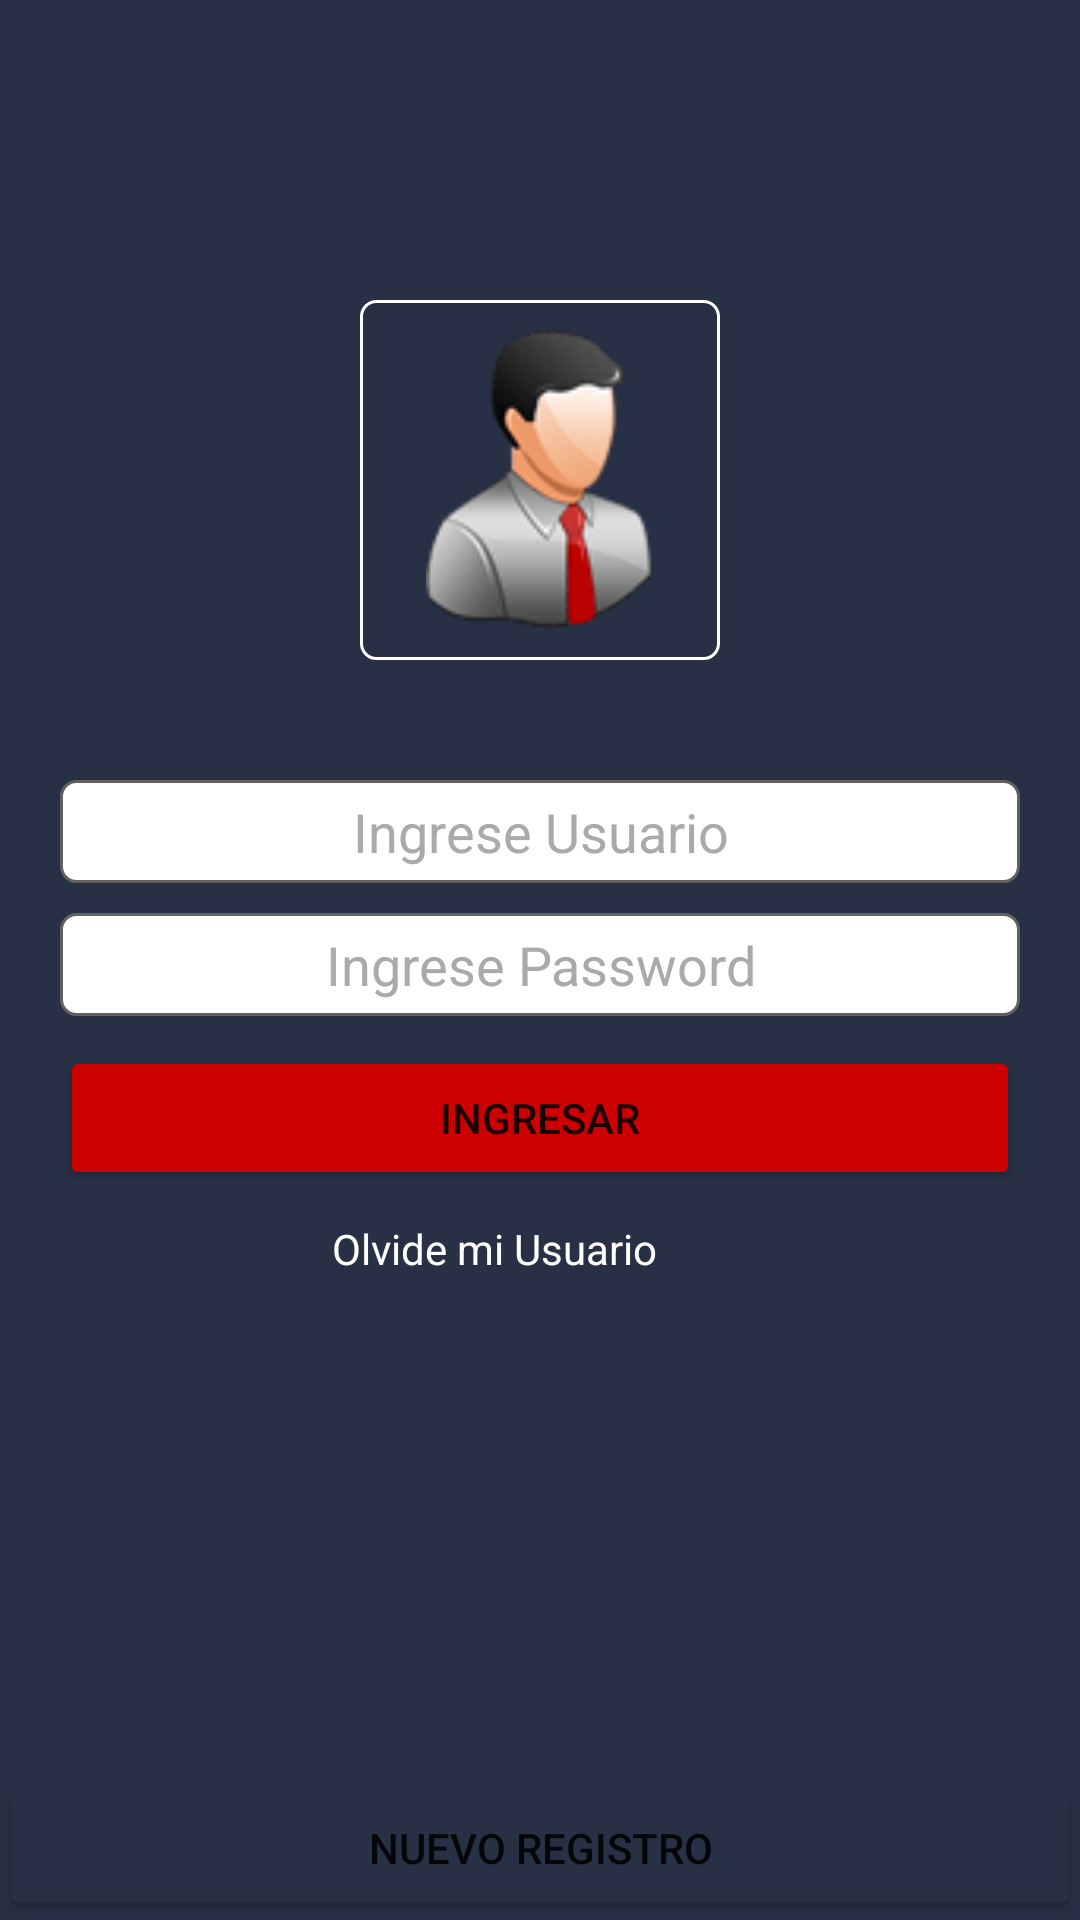

Named icons in this screenshot (1080w x 1920h) and their bounding boxes, (x1, y1, x2, y2):
user: (426, 334, 651, 626)
